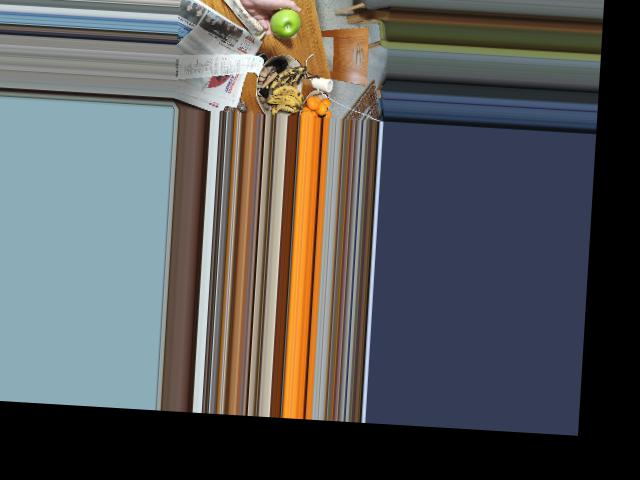apple: (261, 10, 304, 40)
